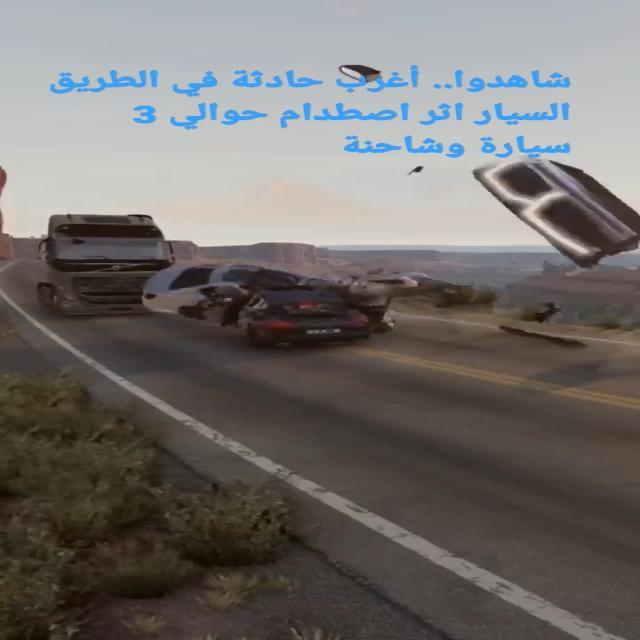accident: (139, 248, 424, 355)
